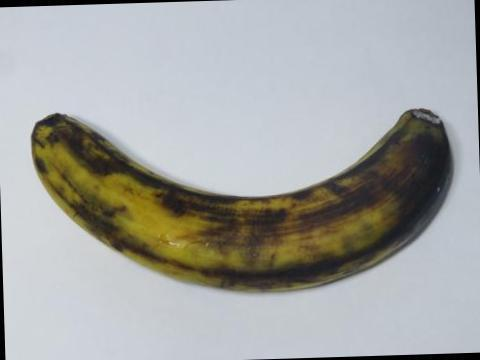overripe: (11, 80, 463, 305)
rotten: (366, 101, 466, 264)
